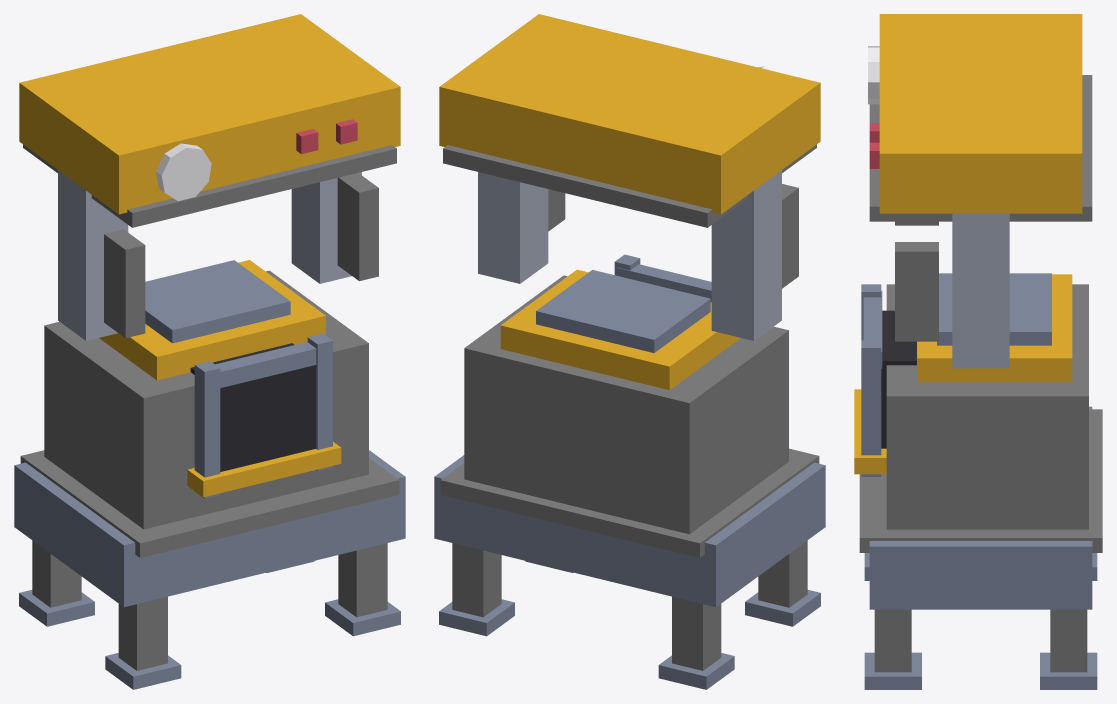
File: press.glb
The picture shows the model from 3 angles, left to right: view 1: azimuth 30°, elevation 25°; view 2: azimuth 150°, elevation 25°; view 3: azimuth 270°, elevation 25°; orthographic projection.
Visible parts, largest first — view 1: press; view 2: press; view 3: press.
Boxes of the visible parts, bbox=[...] form: press: bbox=[14, 14, 405, 689]; press: bbox=[434, 14, 825, 689]; press: bbox=[854, 14, 1102, 689].
Bounding box in the file's own units: 1 × 1.8 × 0.75.
